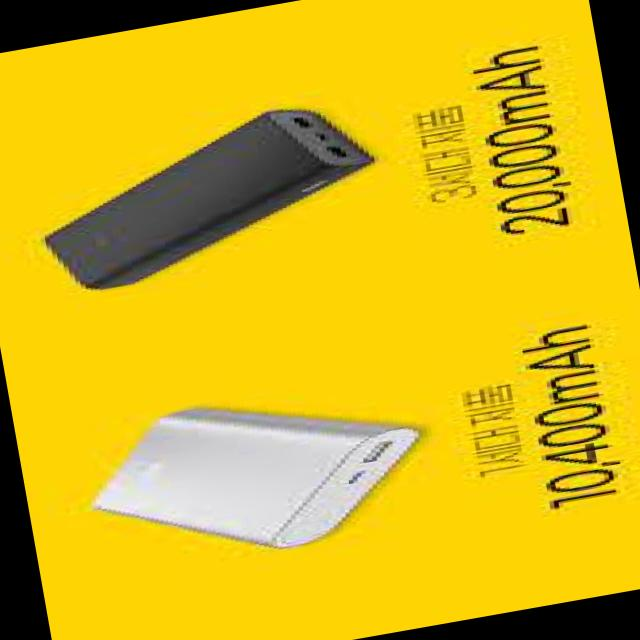power_bank: (62, 358, 443, 584), (22, 91, 394, 302)
